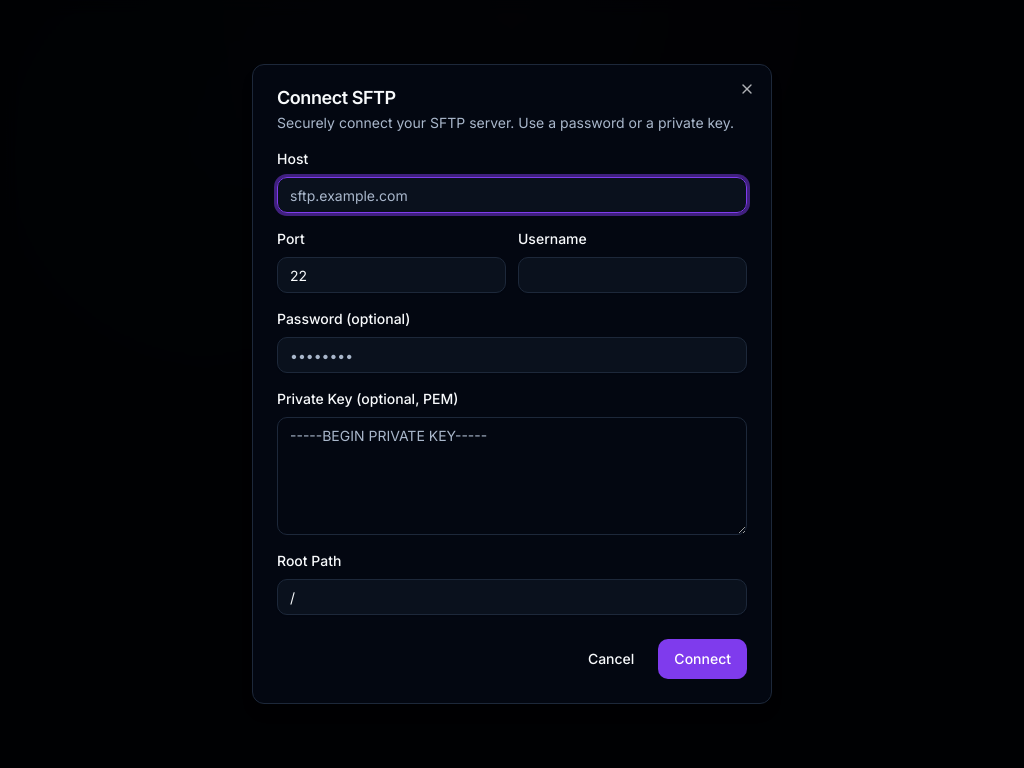
SftpConnectModal Component › Validation › should show error when host is empty
Fill username but not host
Step 1. Type "testuser" into the field below "Username" → point(632, 275), box [518,257,747,293]
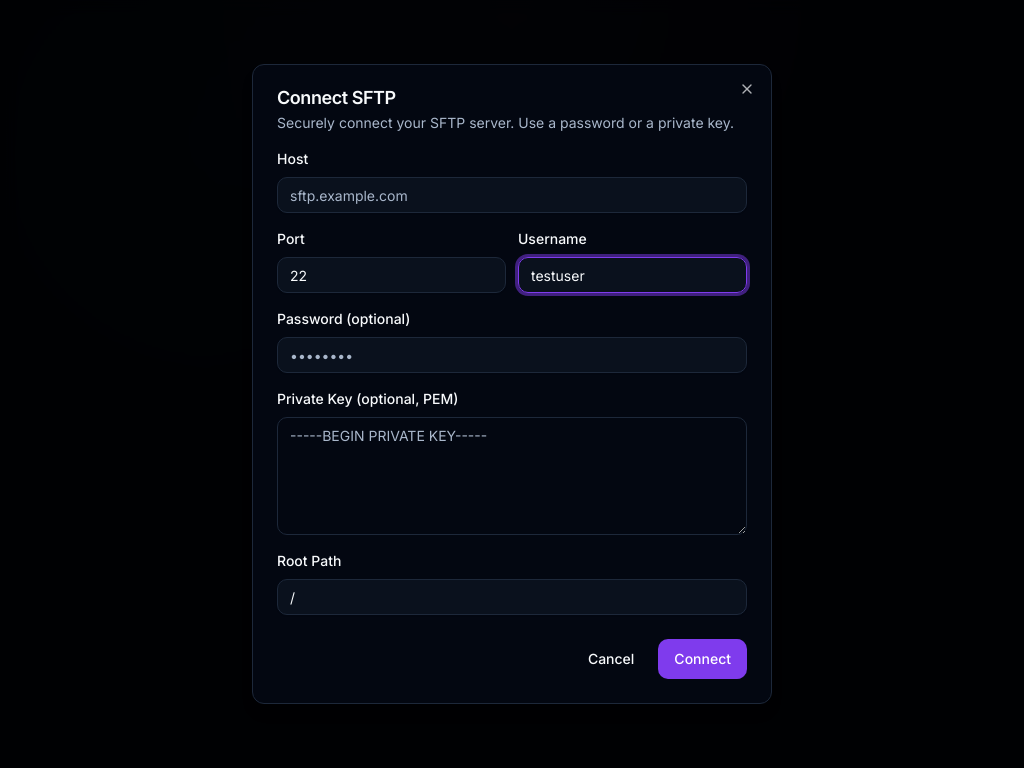
Fill password
Step 2. Type "password" into the password field with placeholder "••••••••" → point(512, 355), box [277,337,747,373]
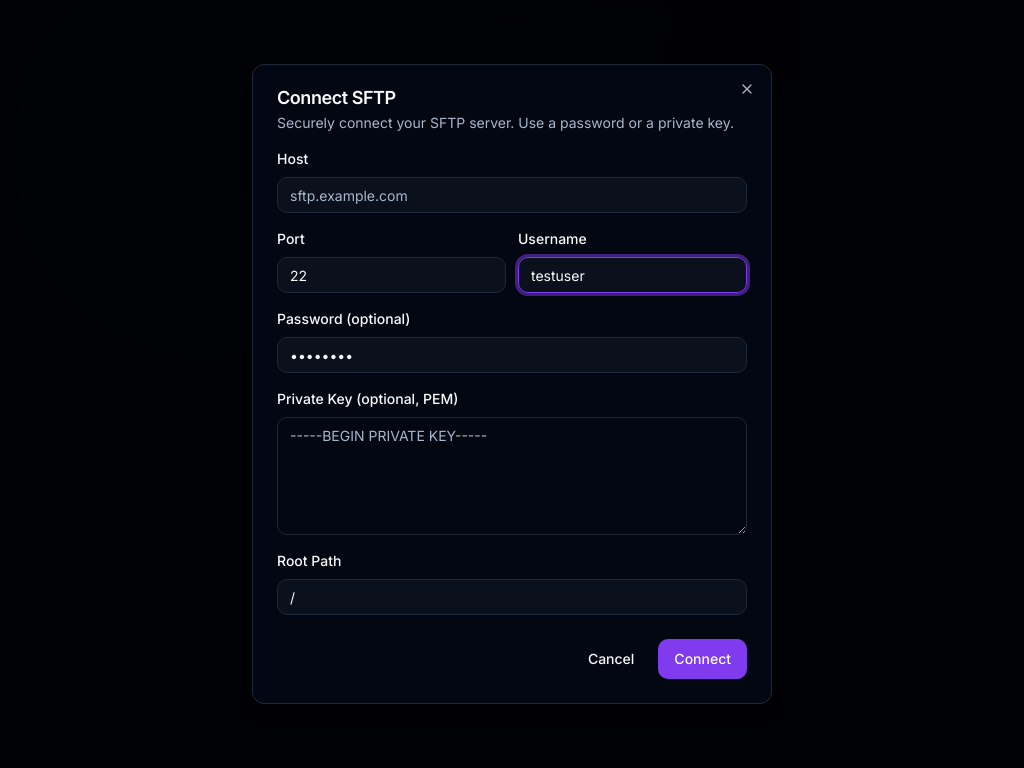
Step 3. Click the button "Connect" → point(703, 659), box [658,639,747,679]
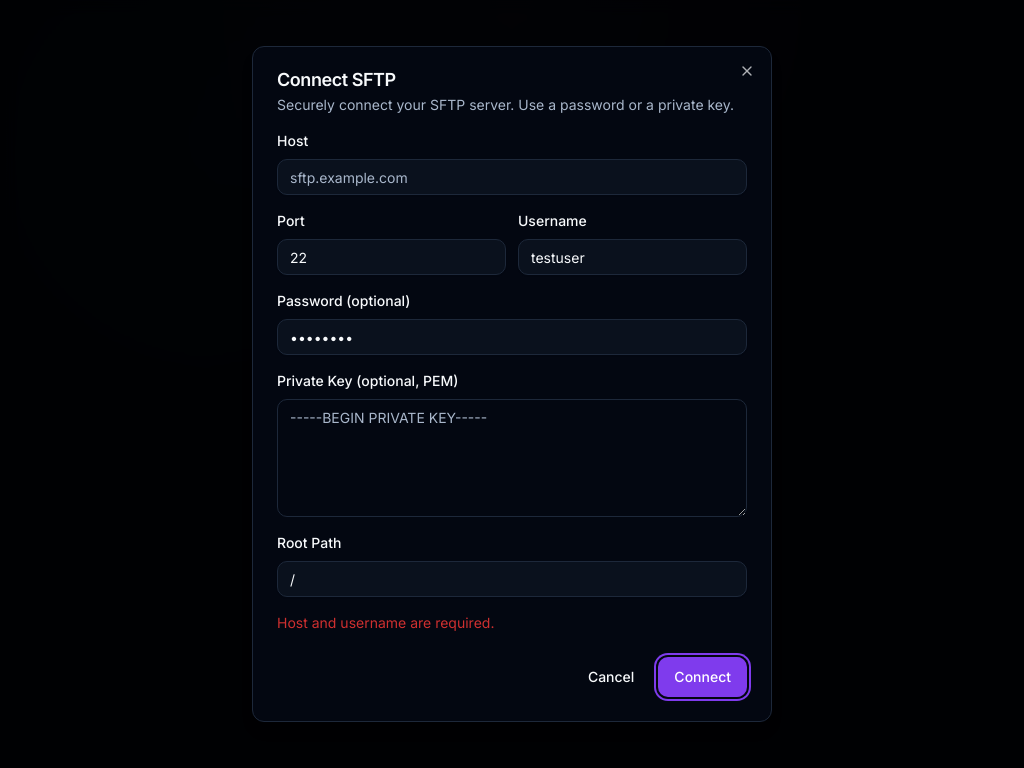
Result: the text "Host and username are required." is shown at [277,614,494,631]
